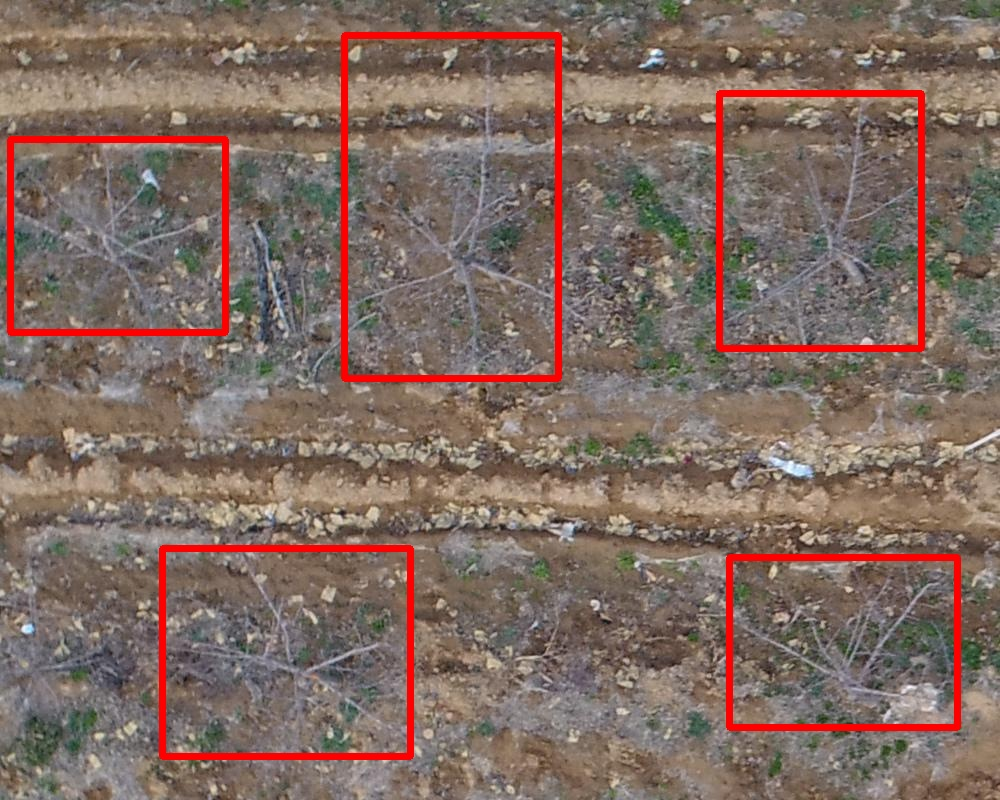apple: (344, 35, 558, 378), (162, 548, 410, 756), (719, 93, 921, 348), (10, 139, 225, 332), (729, 557, 957, 727)
